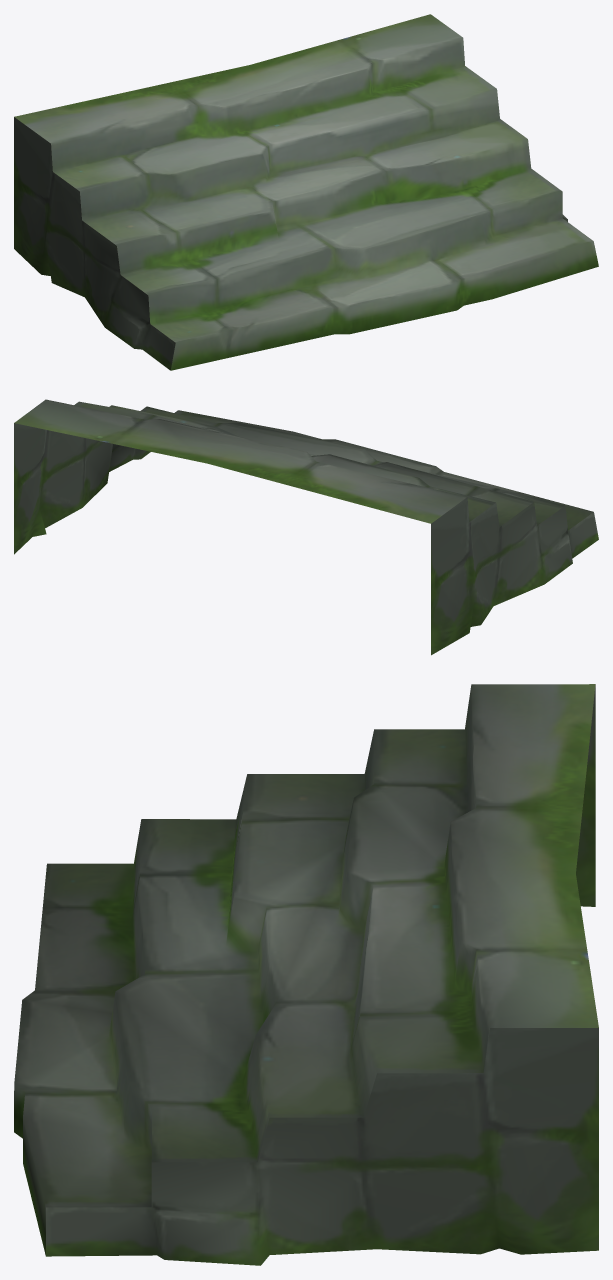
The model's file is scene_lawennushandao_louti01.FBX.
The picture shows the model from 3 angles, top to bottom: view 1: azimuth 30°, elevation 25°; view 2: azimuth 150°, elevation 25°; view 3: azimuth 270°, elevation 25°; orthographic projection. The views are drawn at different scales.
Visible parts, largest first — view 1: scene_lawennushandao_louti01; view 2: scene_lawennushandao_louti01; view 3: scene_lawennushandao_louti01.
Boxes of the visible parts, <box> form: scene_lawennushandao_louti01: <box>14,14,598,370</box>; scene_lawennushandao_louti01: <box>14,399,598,655</box>; scene_lawennushandao_louti01: <box>14,684,598,1265</box>.
Bounding box in the file's own units: 389 × 111 × 262.
